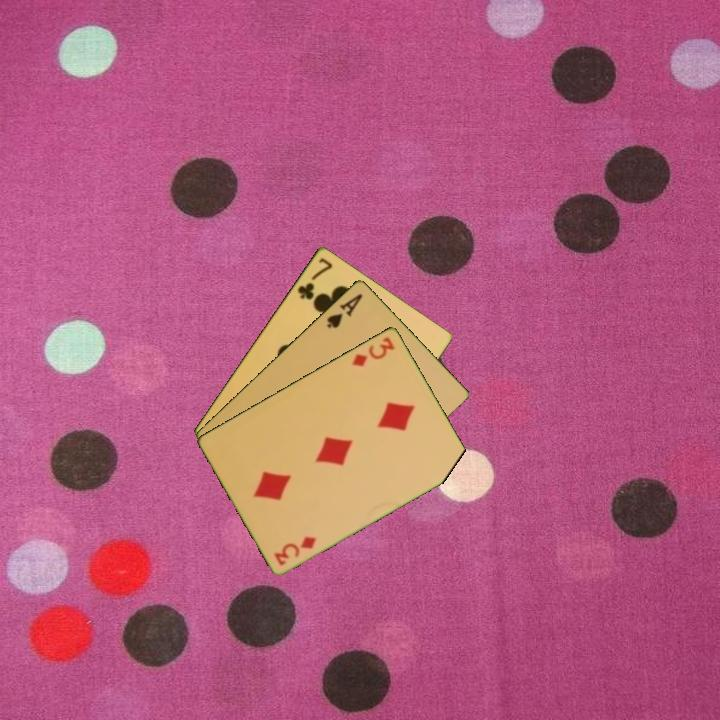3d: (348, 333, 398, 369), (270, 532, 319, 568)
7c: (294, 253, 335, 302)
As: (323, 290, 365, 331)
